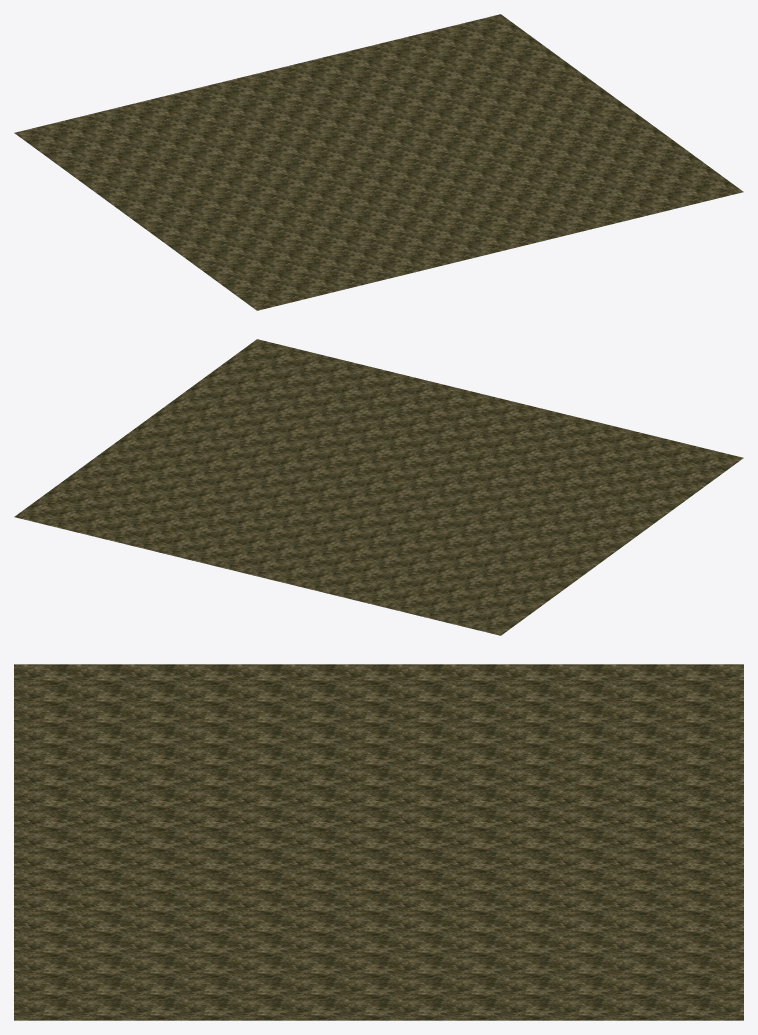
File: CB_NEWPLAYSURFACE_CB_LAKEBOTTOM.fbx
3 renders of one model, top to bottom at view 1: azimuth 30°, elevation 25°; view 2: azimuth 150°, elevation 25°; view 3: azimuth 270°, elevation 25°, orthographic. The views are drawn at different scales.
Parts seen in each view (by area): view 1: CB_NEWPLAYSURFACE_CB_LAKEBOTTOM; view 2: CB_NEWPLAYSURFACE_CB_LAKEBOTTOM; view 3: CB_NEWPLAYSURFACE_CB_LAKEBOTTOM.
Boxes of the visible parts, x1=… form: CB_NEWPLAYSURFACE_CB_LAKEBOTTOM: x1=14, y1=14, x2=743, y2=310; CB_NEWPLAYSURFACE_CB_LAKEBOTTOM: x1=14, y1=339, x2=743, y2=635; CB_NEWPLAYSURFACE_CB_LAKEBOTTOM: x1=14, y1=664, x2=743, y2=1020.
Bounding box in the file's own units: 1306207 × 0.2329 × 1129909.
Materials: 1 (1 with a texture image).
